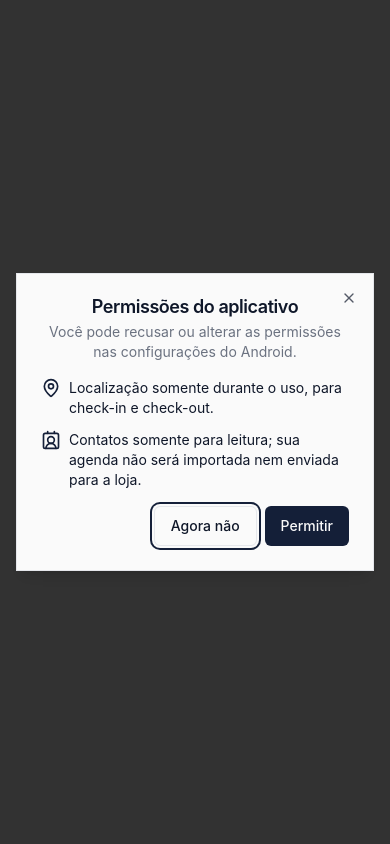
Test: Android permission scope › asks sequentially and still requests GPS when contacts are denied, without reading any agenda
What coordinates should you click on to do the following:
click the button "Permitir"
I would click on:
 (307, 526)
Its box is [265,506,349,546].
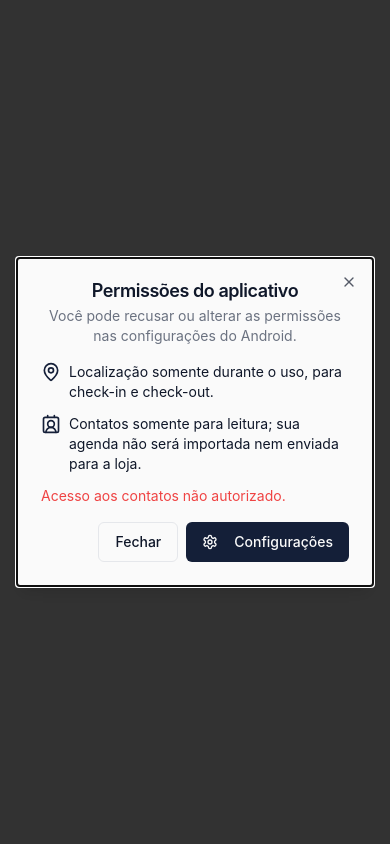
Expected: the message shows "contatos não autorizado", [41,487,286,504]
